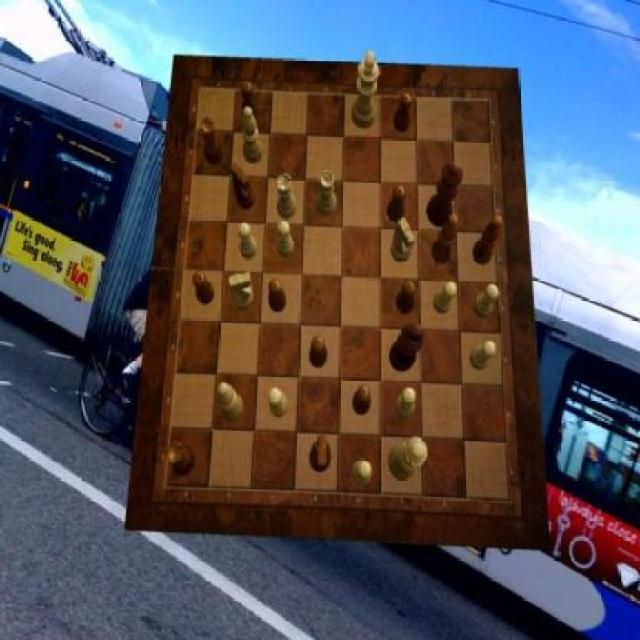bishop: (472, 216, 502, 264), (430, 213, 458, 264)
black-bishop: (389, 325, 425, 372)
black-king: (231, 163, 257, 211), (309, 435, 332, 473)
black-knight: (193, 269, 214, 304), (397, 280, 417, 315), (242, 82, 259, 122), (394, 94, 411, 134), (388, 186, 405, 222), (268, 278, 285, 312), (354, 384, 371, 416), (311, 337, 328, 369)
black-pawn: (426, 161, 463, 227)
black-queen: (200, 119, 224, 166), (166, 442, 196, 476)
black-rook: (242, 106, 262, 164), (218, 383, 244, 423)
white-bishop: (352, 51, 380, 129)
white-king: (392, 218, 417, 262), (229, 271, 254, 309)
white-knight: (474, 284, 500, 320), (432, 282, 456, 316), (470, 342, 498, 371), (238, 222, 258, 259), (275, 222, 293, 259), (397, 388, 417, 420), (268, 388, 288, 418), (352, 458, 372, 484)
white-pawn: (388, 437, 428, 479)
white-queen: (277, 174, 297, 220), (317, 171, 337, 217)
